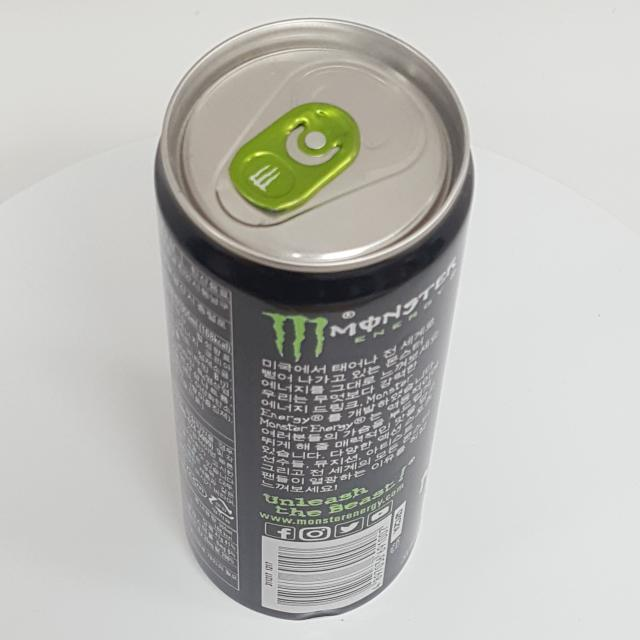--------355ML: (155, 17, 473, 620)
